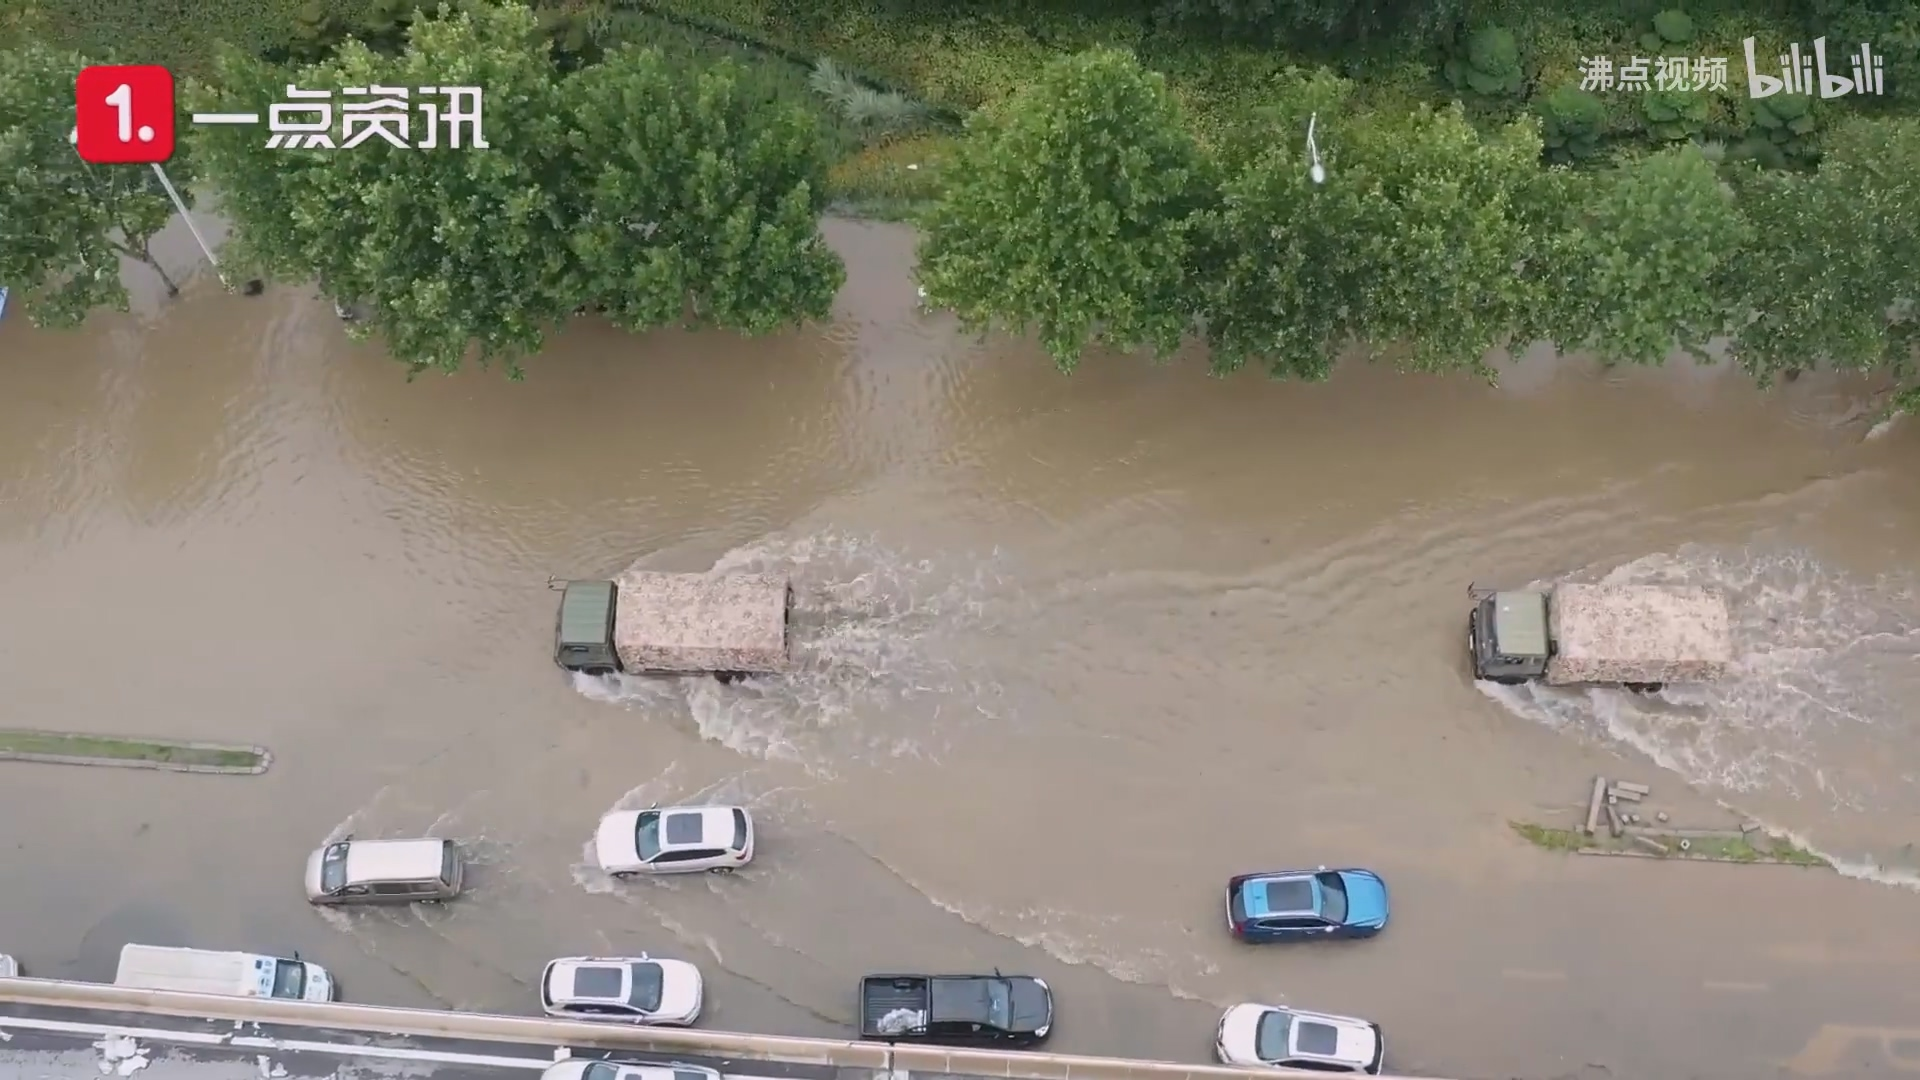puddle: (22, 280, 1903, 1073)
